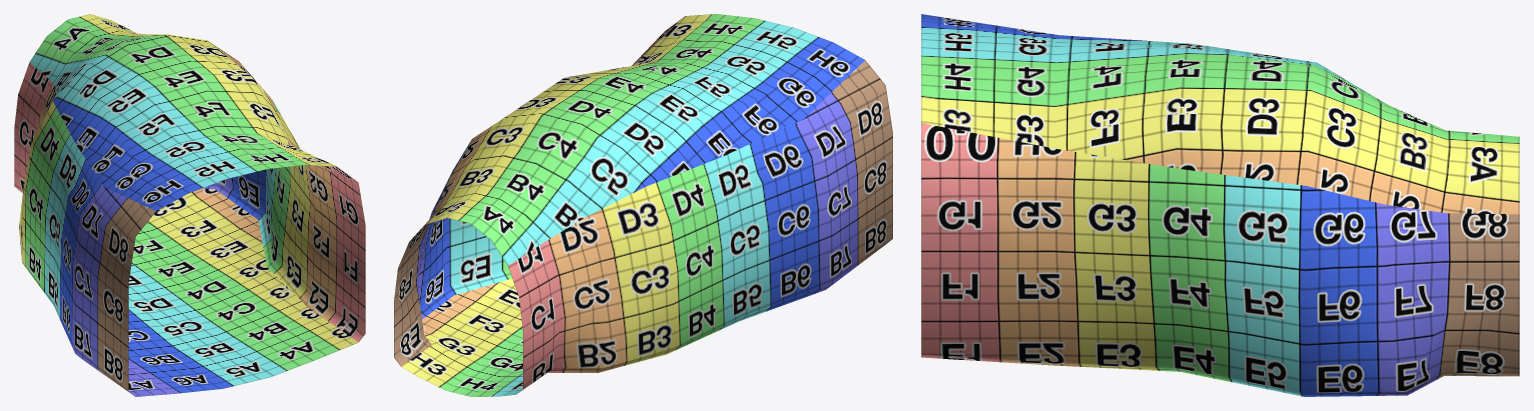
The model's file is grotte_out.fbx.
The picture shows the model from 3 angles, left to right: view 1: azimuth 30°, elevation 25°; view 2: azimuth 150°, elevation 25°; view 3: azimuth 270°, elevation 25°; orthographic projection. The views are drawn at different scales.
Parts seen in each view (by area): view 1: grotte_out; view 2: grotte_out; view 3: grotte_out.
Boxes of the visible parts, left/top/right/bottom form: grotte_out: left=14, top=14, right=365, bottom=396; grotte_out: left=394, top=14, right=892, bottom=396; grotte_out: left=921, top=14, right=1519, bottom=396.
Size of the model in its own units: 558 by 401 by 800.
1 material, 1 textured.
